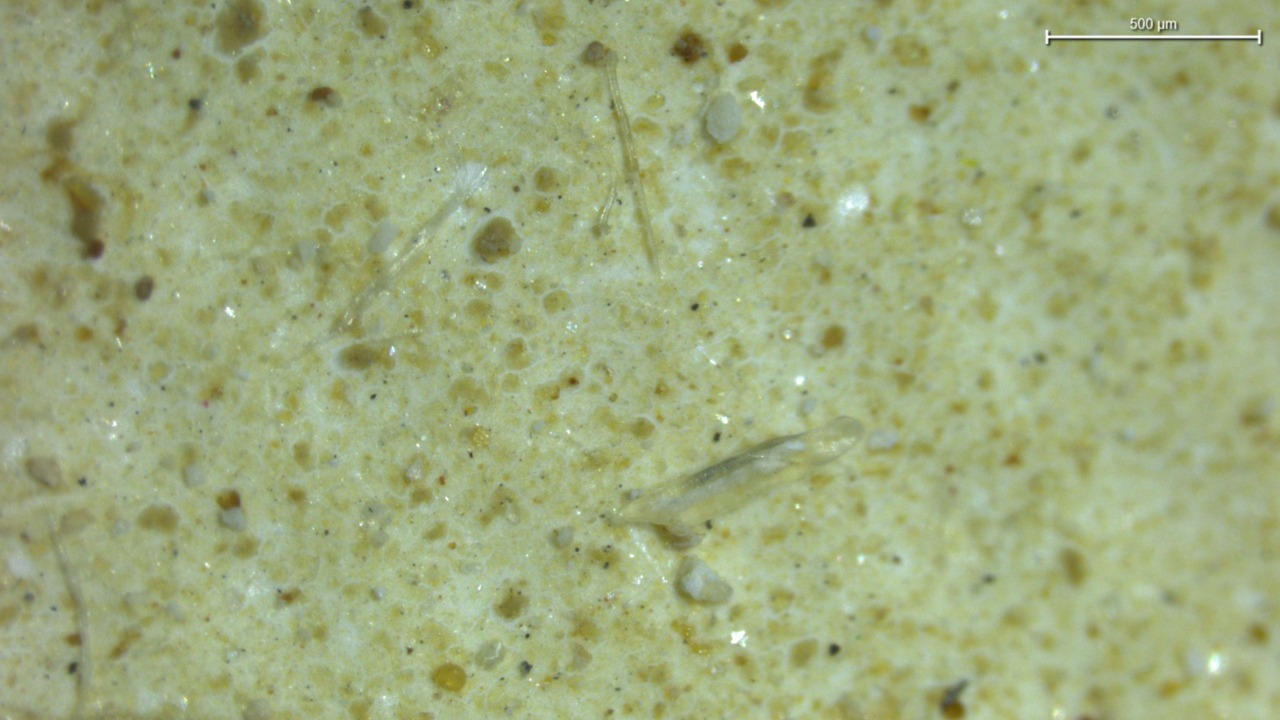microplastic_fragment: (608, 417, 865, 549), (675, 557, 732, 603), (704, 94, 743, 143)
